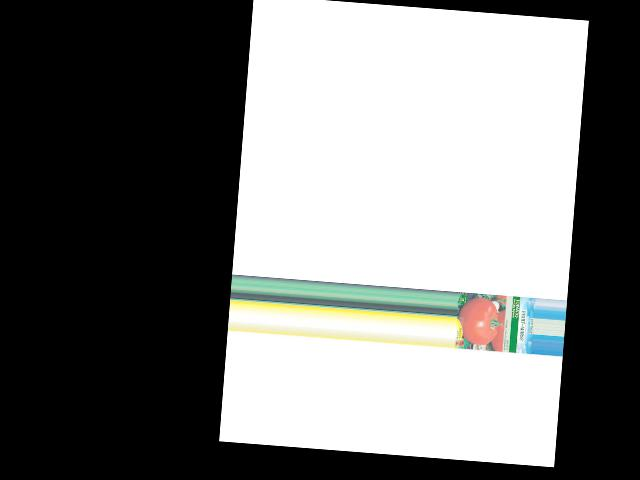tomato: (456, 296, 499, 346)
